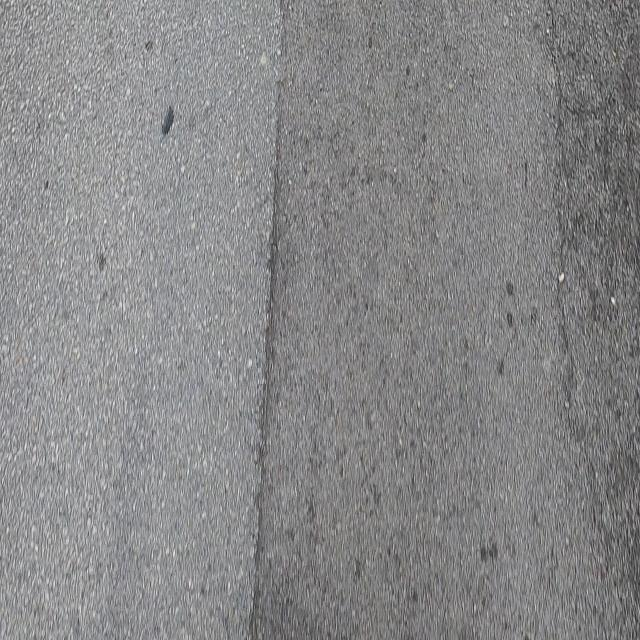Retak-Memanjang: (248, 109, 285, 639), (545, 1, 577, 438)
